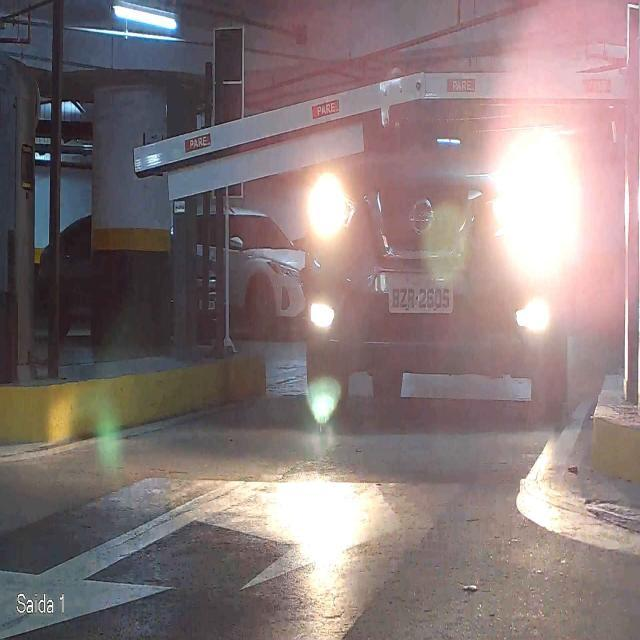old_plate: (386, 272, 455, 315)
